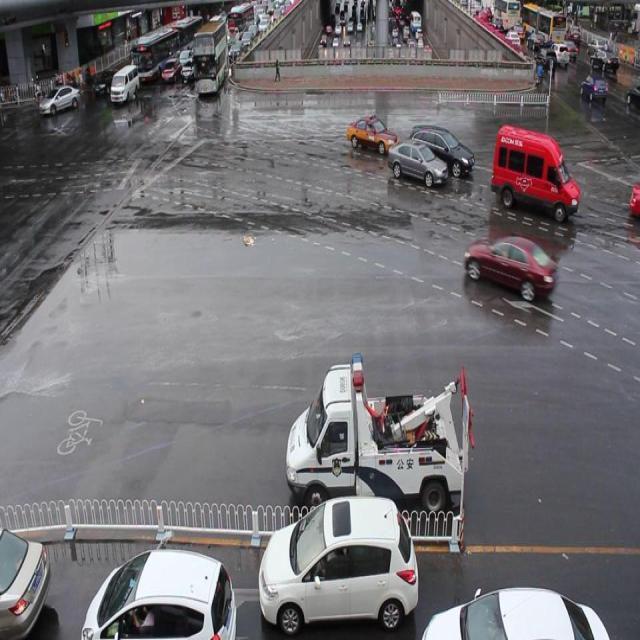BigCar: (188, 9, 228, 114), (128, 20, 172, 84)
car: (284, 352, 479, 526), (248, 503, 418, 629), (74, 530, 244, 640), (490, 118, 580, 234), (462, 224, 558, 320), (384, 125, 460, 221), (414, 120, 470, 183), (339, 101, 396, 160), (35, 75, 81, 126), (108, 61, 136, 119)
